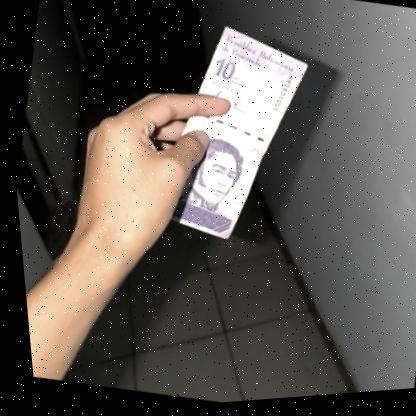ten-front-vef: (147, 18, 325, 260)
